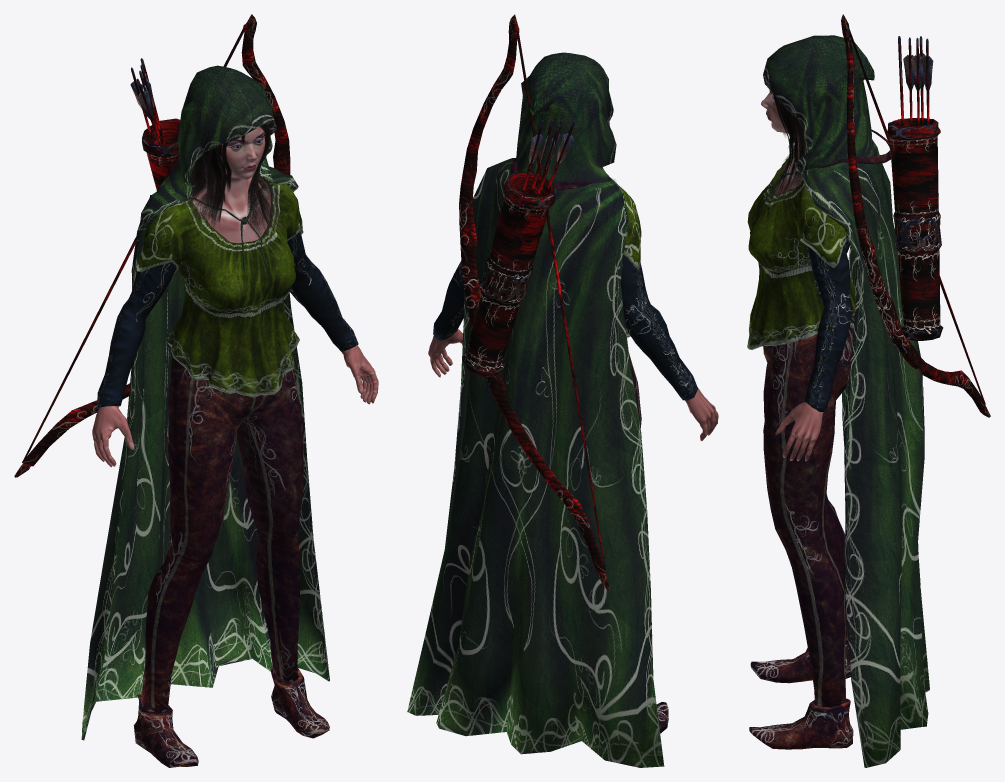
Rendered from actor-archer.glb.
The picture shows the model from 3 angles, left to right: view 1: azimuth 30°, elevation 25°; view 2: azimuth 150°, elevation 25°; view 3: azimuth 270°, elevation 25°; orthographic projection.
Parts seen in each view (by area): view 1: LOW_body · posed; view 2: LOW_body · posed; view 3: LOW_body · posed.
Boxes of the visible parts, <box> form: LOW_body · posed: <box>14,14,378,767</box>; LOW_body · posed: <box>407,14,718,767</box>; LOW_body · posed: <box>747,14,990,767</box>.
Bounding box in the file's own units: 0.8221 × 2 × 0.6158.
6 materials, 6 textured.
